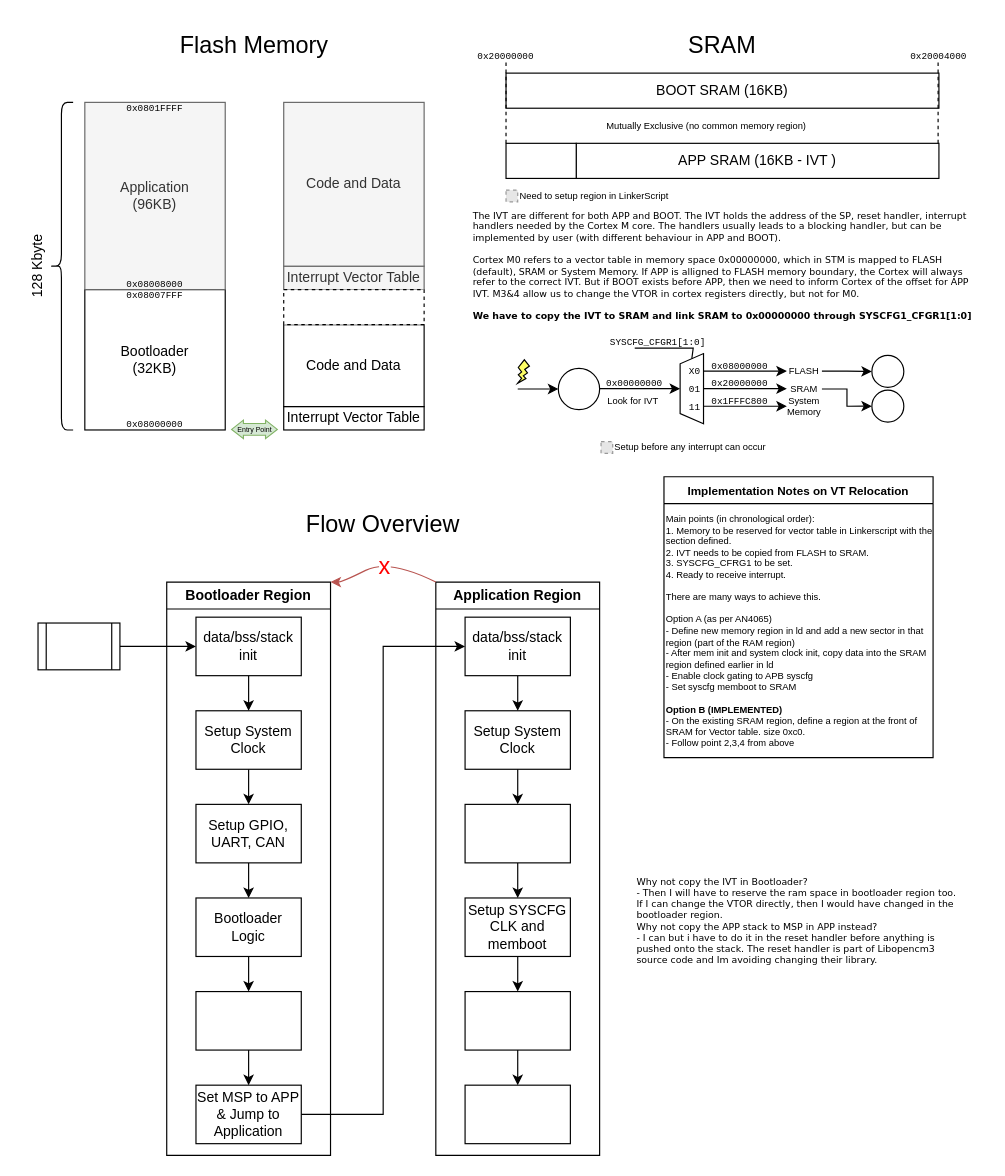
Some shapes in this 1005 by 1176 pixel diagram are drawn without their labels. Grey dashed boxes stand in for pictures. The shapes that lost their labels are listed below. From the top down, each one's centre as x and y in pixels, then its label:
the point at 540,160: IVT
the point at 353,306: Padding
the point at 578,388: CM0
the point at 887,370: BOOT IVT
the point at 887,405: APP IVT
the point at 78,646: Reset Event
the point at 517,833: Copy IVT to SRAM
the point at 248,1020: Teardown Logic
the point at 517,1020: Setup GPIO, UART, I2C, CAN, SSD1306
the point at 517,1114: Application Logic
